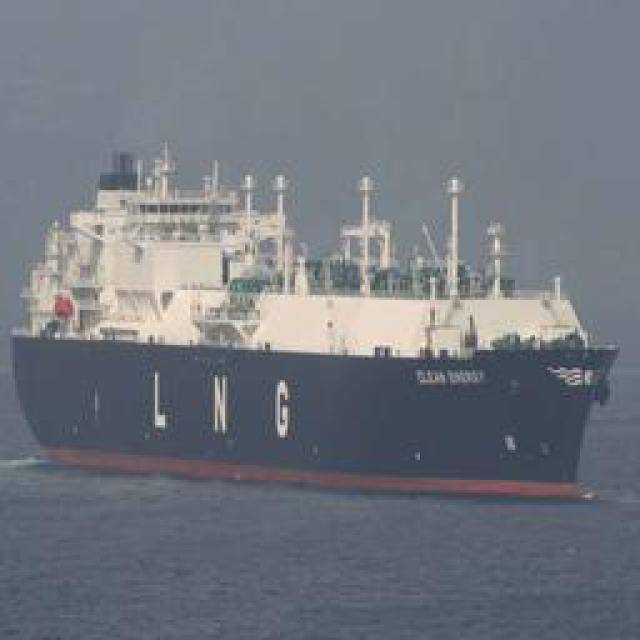Ship: (14, 133, 599, 478)
